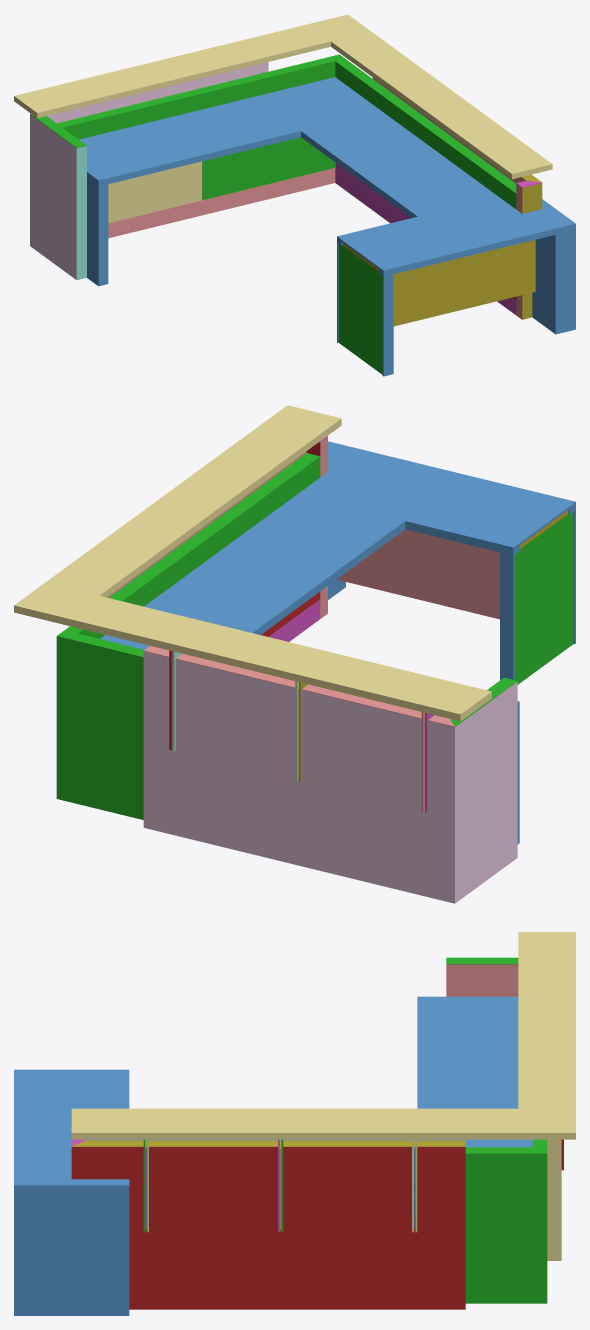
3 renders of one model, top to bottom at view 1: azimuth 30°, elevation 25°; view 2: azimuth 150°, elevation 25°; view 3: azimuth 270°, elevation 25°, orthographic. The views are drawn at different scales.
Parts seen in each view (by area): view 1: Group_080, Group_083, Group_082, Group_008, Group_22_001, Group_055, Group_007, Group_054, Group_041, Group_23_001, Group_25_001, Group_018 (+3 smaller); view 2: Group_21_001, Group_080, Group_083, Group_082, Group_22_001, Group_014, Group_007, Group_042, Group_018; view 3: Group_15_001, Group_080, Group_083, Group_082, Group_044, Group_26_001, Group_24_001, Group_043.
Part boxes in pixels (left/top/right/bottom): Group_080: left=79, top=77, right=575, bottom=376; Group_083: left=14, top=14, right=552, bottom=179; Group_082: left=57, top=54, right=516, bottom=209; Group_008: left=393, top=239, right=535, bottom=326; Group_22_001: left=30, top=114, right=76, bottom=279; Group_055: left=202, top=137, right=334, bottom=199; Group_007: left=338, top=244, right=382, bottom=374; Group_054: left=108, top=161, right=202, bottom=222; Group_041: left=108, top=167, right=335, bottom=238; Group_23_001: left=47, top=62, right=268, bottom=123; Group_25_001: left=76, top=146, right=86, bottom=279; Group_018: left=335, top=168, right=516, bottom=314; Group_21_001: left=143, top=651, right=454, bottom=903; Group_080: left=100, top=441, right=575, bottom=844; Group_083: left=14, top=405, right=491, bottom=721; Group_082: left=56, top=453, right=320, bottom=819; Group_22_001: left=455, top=681, right=517, bottom=903; Group_014: left=337, top=529, right=499, bottom=619; Group_007: left=514, top=512, right=573, bottom=684; Group_042: left=144, top=646, right=454, bottom=726; Group_018: left=269, top=599, right=320, bottom=641; Group_15_001: left=71, top=1147, right=465, bottom=1309; Group_080: left=14, top=996, right=532, bottom=1315; Group_083: left=71, top=932, right=575, bottom=1139; Group_082: left=465, top=1139, right=547, bottom=1303; Group_044: left=71, top=1140, right=465, bottom=1146; Group_26_001: left=446, top=964, right=518, bottom=996; Group_24_001: left=547, top=1139, right=561, bottom=1260; Group_043: left=446, top=957, right=518, bottom=964.
Size of the model in its own units: 2515 by 1067 by 2972.
